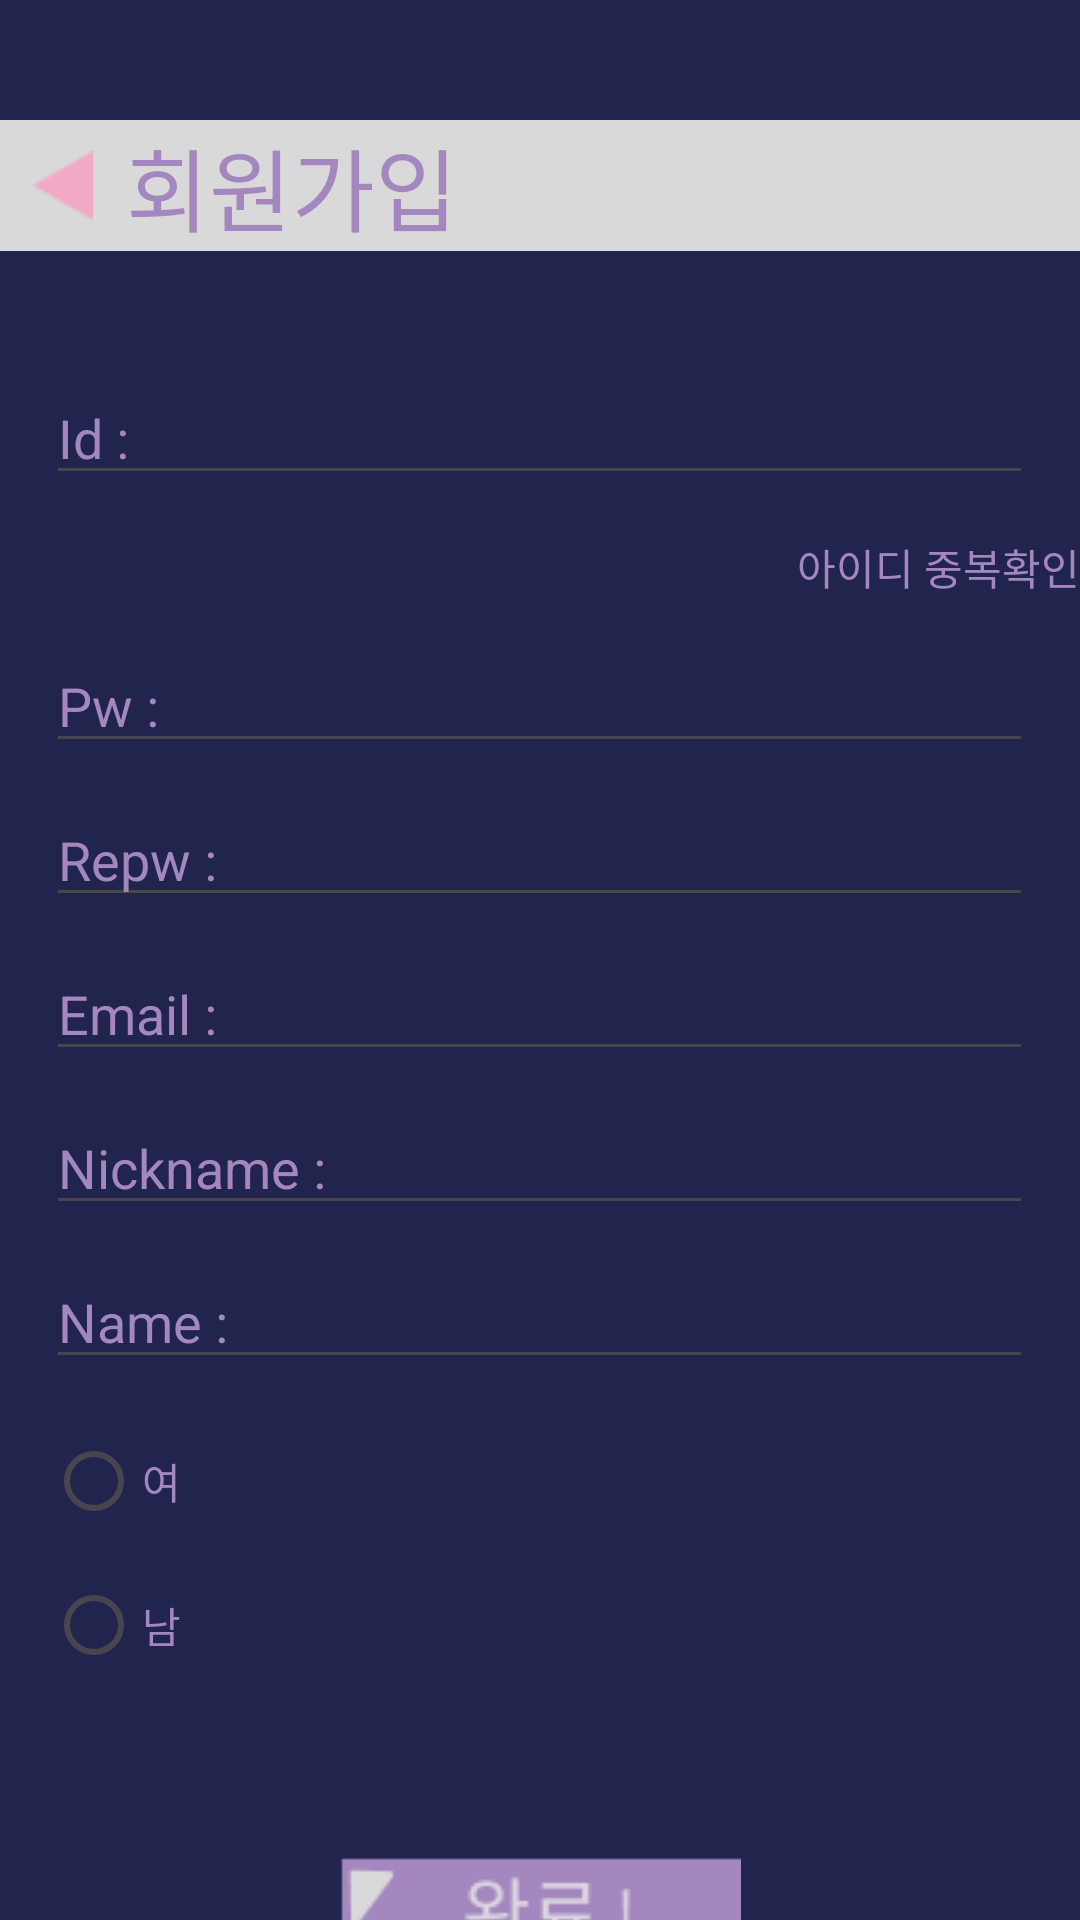

Named icons in this screenshot (1080×1920) and their centers, [x,y]:
join arrow: [63,185]
